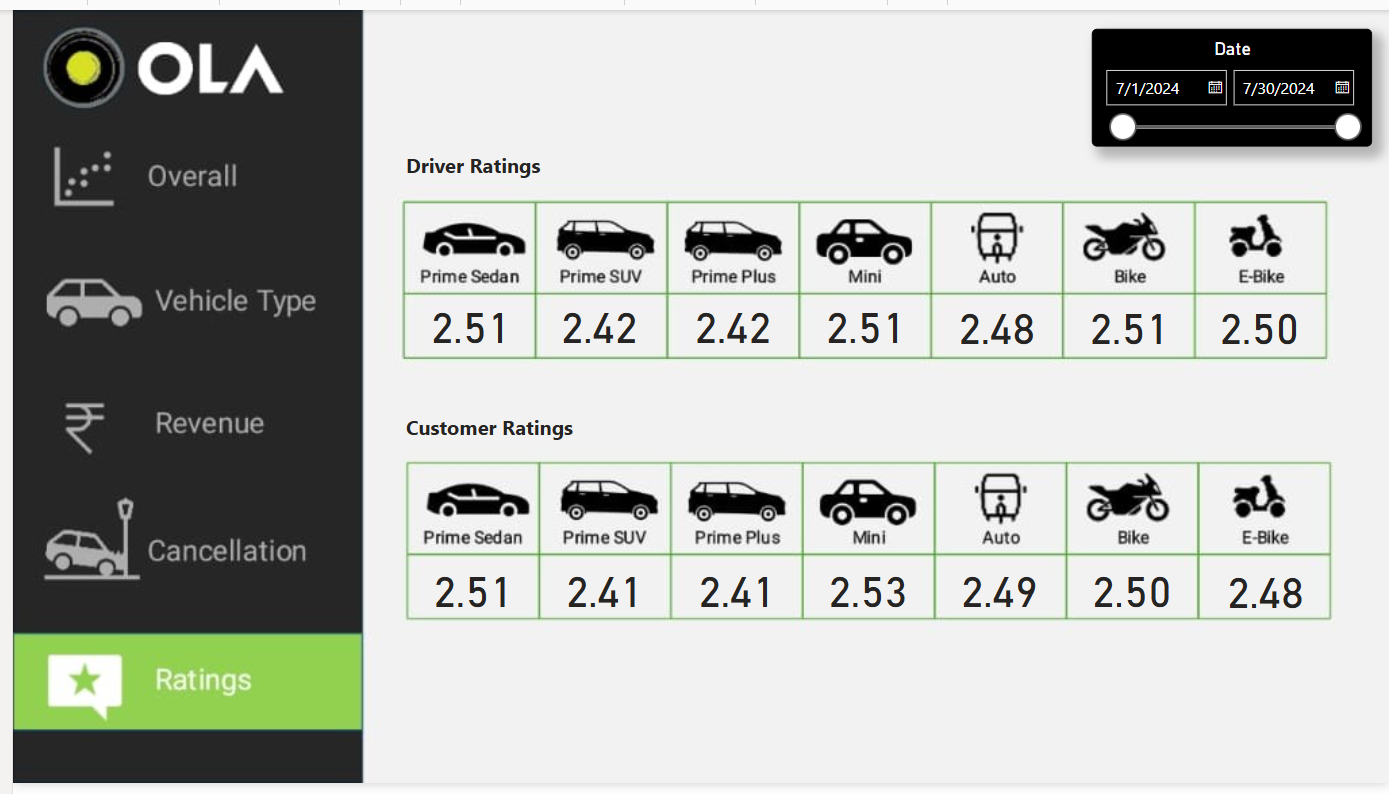

Layout of this report page (visuals, bound fields, positions):
{"tool":"powerbi","page":{"name":"Ratings","canvas":[1280,720],"ordinal":4},"visuals":[{"type":"actionButton","box":[0,218.4,324.5,95.3],"z":0},{"type":"actionButton","box":[0,337.8,324.5,91.7],"z":1000},{"type":"actionButton","box":[0,450,323.3,91.7],"z":2000},{"type":"actionButton","box":[0,109.8,323.3,90.5],"z":3000},{"type":"card","fields":{"Values":["Avg(July_Cleaned.Driver_Ratings)"]},"box":[370.5,267.6,109.8,49.4],"z":4000},{"type":"card","fields":{"Values":["Avg(July_Cleaned.Driver_Ratings)"]},"box":[491.3,267.6,109.8,49.4],"z":5000},{"type":"card","fields":{"Values":["Avg(July_Cleaned.Driver_Ratings)"]},"box":[614.8,267.6,109.8,49.4],"z":6000},{"type":"card","fields":{"Values":["Avg(July_Cleaned.Driver_Ratings)"]},"box":[738.3,267.6,109.8,49.4],"z":7000},{"type":"card","fields":{"Values":["Avg(July_Cleaned.Driver_Ratings)"]},"box":[1104.6,269,109.8,49.4],"z":8000},{"type":"card","fields":{"Values":["Avg(July_Cleaned.Driver_Ratings)"]},"box":[983.9,269,109.8,49.4],"z":9000},{"type":"card","fields":{"Values":["Avg(July_Cleaned.Driver_Ratings)"]},"box":[860.4,269,109.8,49.4],"z":10000},{"type":"card","fields":{"Values":["Avg(July_Cleaned.Customer_Rating)"]},"box":[373.2,509.1,109.8,56.3],"z":11000},{"type":"card","fields":{"Values":["Avg(July_Cleaned.Customer_Rating)"]},"box":[495.4,509.1,109.8,56.3],"z":12000},{"type":"card","fields":{"Values":["Avg(July_Cleaned.Customer_Rating)"]},"box":[863.1,509.1,109.8,56.3],"z":13000},{"type":"card","fields":{"Values":["Avg(July_Cleaned.Customer_Rating)"]},"box":[741,509.1,109.8,56.3],"z":14000},{"type":"card","fields":{"Values":["Avg(July_Cleaned.Customer_Rating)"]},"box":[618.9,509.1,109.8,56.3],"z":15000},{"type":"card","fields":{"Values":["Avg(July_Cleaned.Customer_Rating)"]},"box":[1110.1,510.5,109.8,56.3],"z":16000},{"type":"card","fields":{"Values":["Avg(July_Cleaned.Customer_Rating)"]},"box":[986.6,509.1,109.8,56.3],"z":17000},{"type":"textbox","box":[360.9,126.2,185.2,39.8],"z":18000},{"type":"textbox","box":[360.9,370.5,240.1,37],"z":19000},{"type":"slicer","title":"Date","fields":{"Values":["July_Cleaned.Date"]},"box":[1003.8,16.9,260.6,109.8],"z":20000}]}

Visuals, with their boxes in screenshot pixels (x1, y1, x2, y2), scaled from the page's 1280x720 canvas onto the 1389x794 screenshot:
actionButton: <bbox>0, 241, 352, 346</bbox>
actionButton: <bbox>0, 373, 352, 474</bbox>
actionButton: <bbox>0, 496, 351, 597</bbox>
actionButton: <bbox>0, 121, 351, 221</bbox>
card - Avg(July_Cleaned.Driver_Ratings): <bbox>402, 295, 521, 350</bbox>
card - Avg(July_Cleaned.Driver_Ratings): <bbox>533, 295, 652, 350</bbox>
card - Avg(July_Cleaned.Driver_Ratings): <bbox>667, 295, 786, 350</bbox>
card - Avg(July_Cleaned.Driver_Ratings): <bbox>801, 295, 920, 350</bbox>
card - Avg(July_Cleaned.Driver_Ratings): <bbox>1199, 297, 1318, 351</bbox>
card - Avg(July_Cleaned.Driver_Ratings): <bbox>1068, 297, 1187, 351</bbox>
card - Avg(July_Cleaned.Driver_Ratings): <bbox>934, 297, 1053, 351</bbox>
card - Avg(July_Cleaned.Customer_Rating): <bbox>405, 561, 524, 624</bbox>
card - Avg(July_Cleaned.Customer_Rating): <bbox>538, 561, 657, 624</bbox>
card - Avg(July_Cleaned.Customer_Rating): <bbox>937, 561, 1056, 624</bbox>
card - Avg(July_Cleaned.Customer_Rating): <bbox>804, 561, 923, 624</bbox>
card - Avg(July_Cleaned.Customer_Rating): <bbox>672, 561, 791, 624</bbox>
card - Avg(July_Cleaned.Customer_Rating): <bbox>1205, 563, 1324, 625</bbox>
card - Avg(July_Cleaned.Customer_Rating): <bbox>1071, 561, 1190, 624</bbox>
textbox: <bbox>392, 139, 593, 183</bbox>
textbox: <bbox>392, 409, 652, 449</bbox>
"Date" slicer: <bbox>1089, 19, 1372, 140</bbox>
